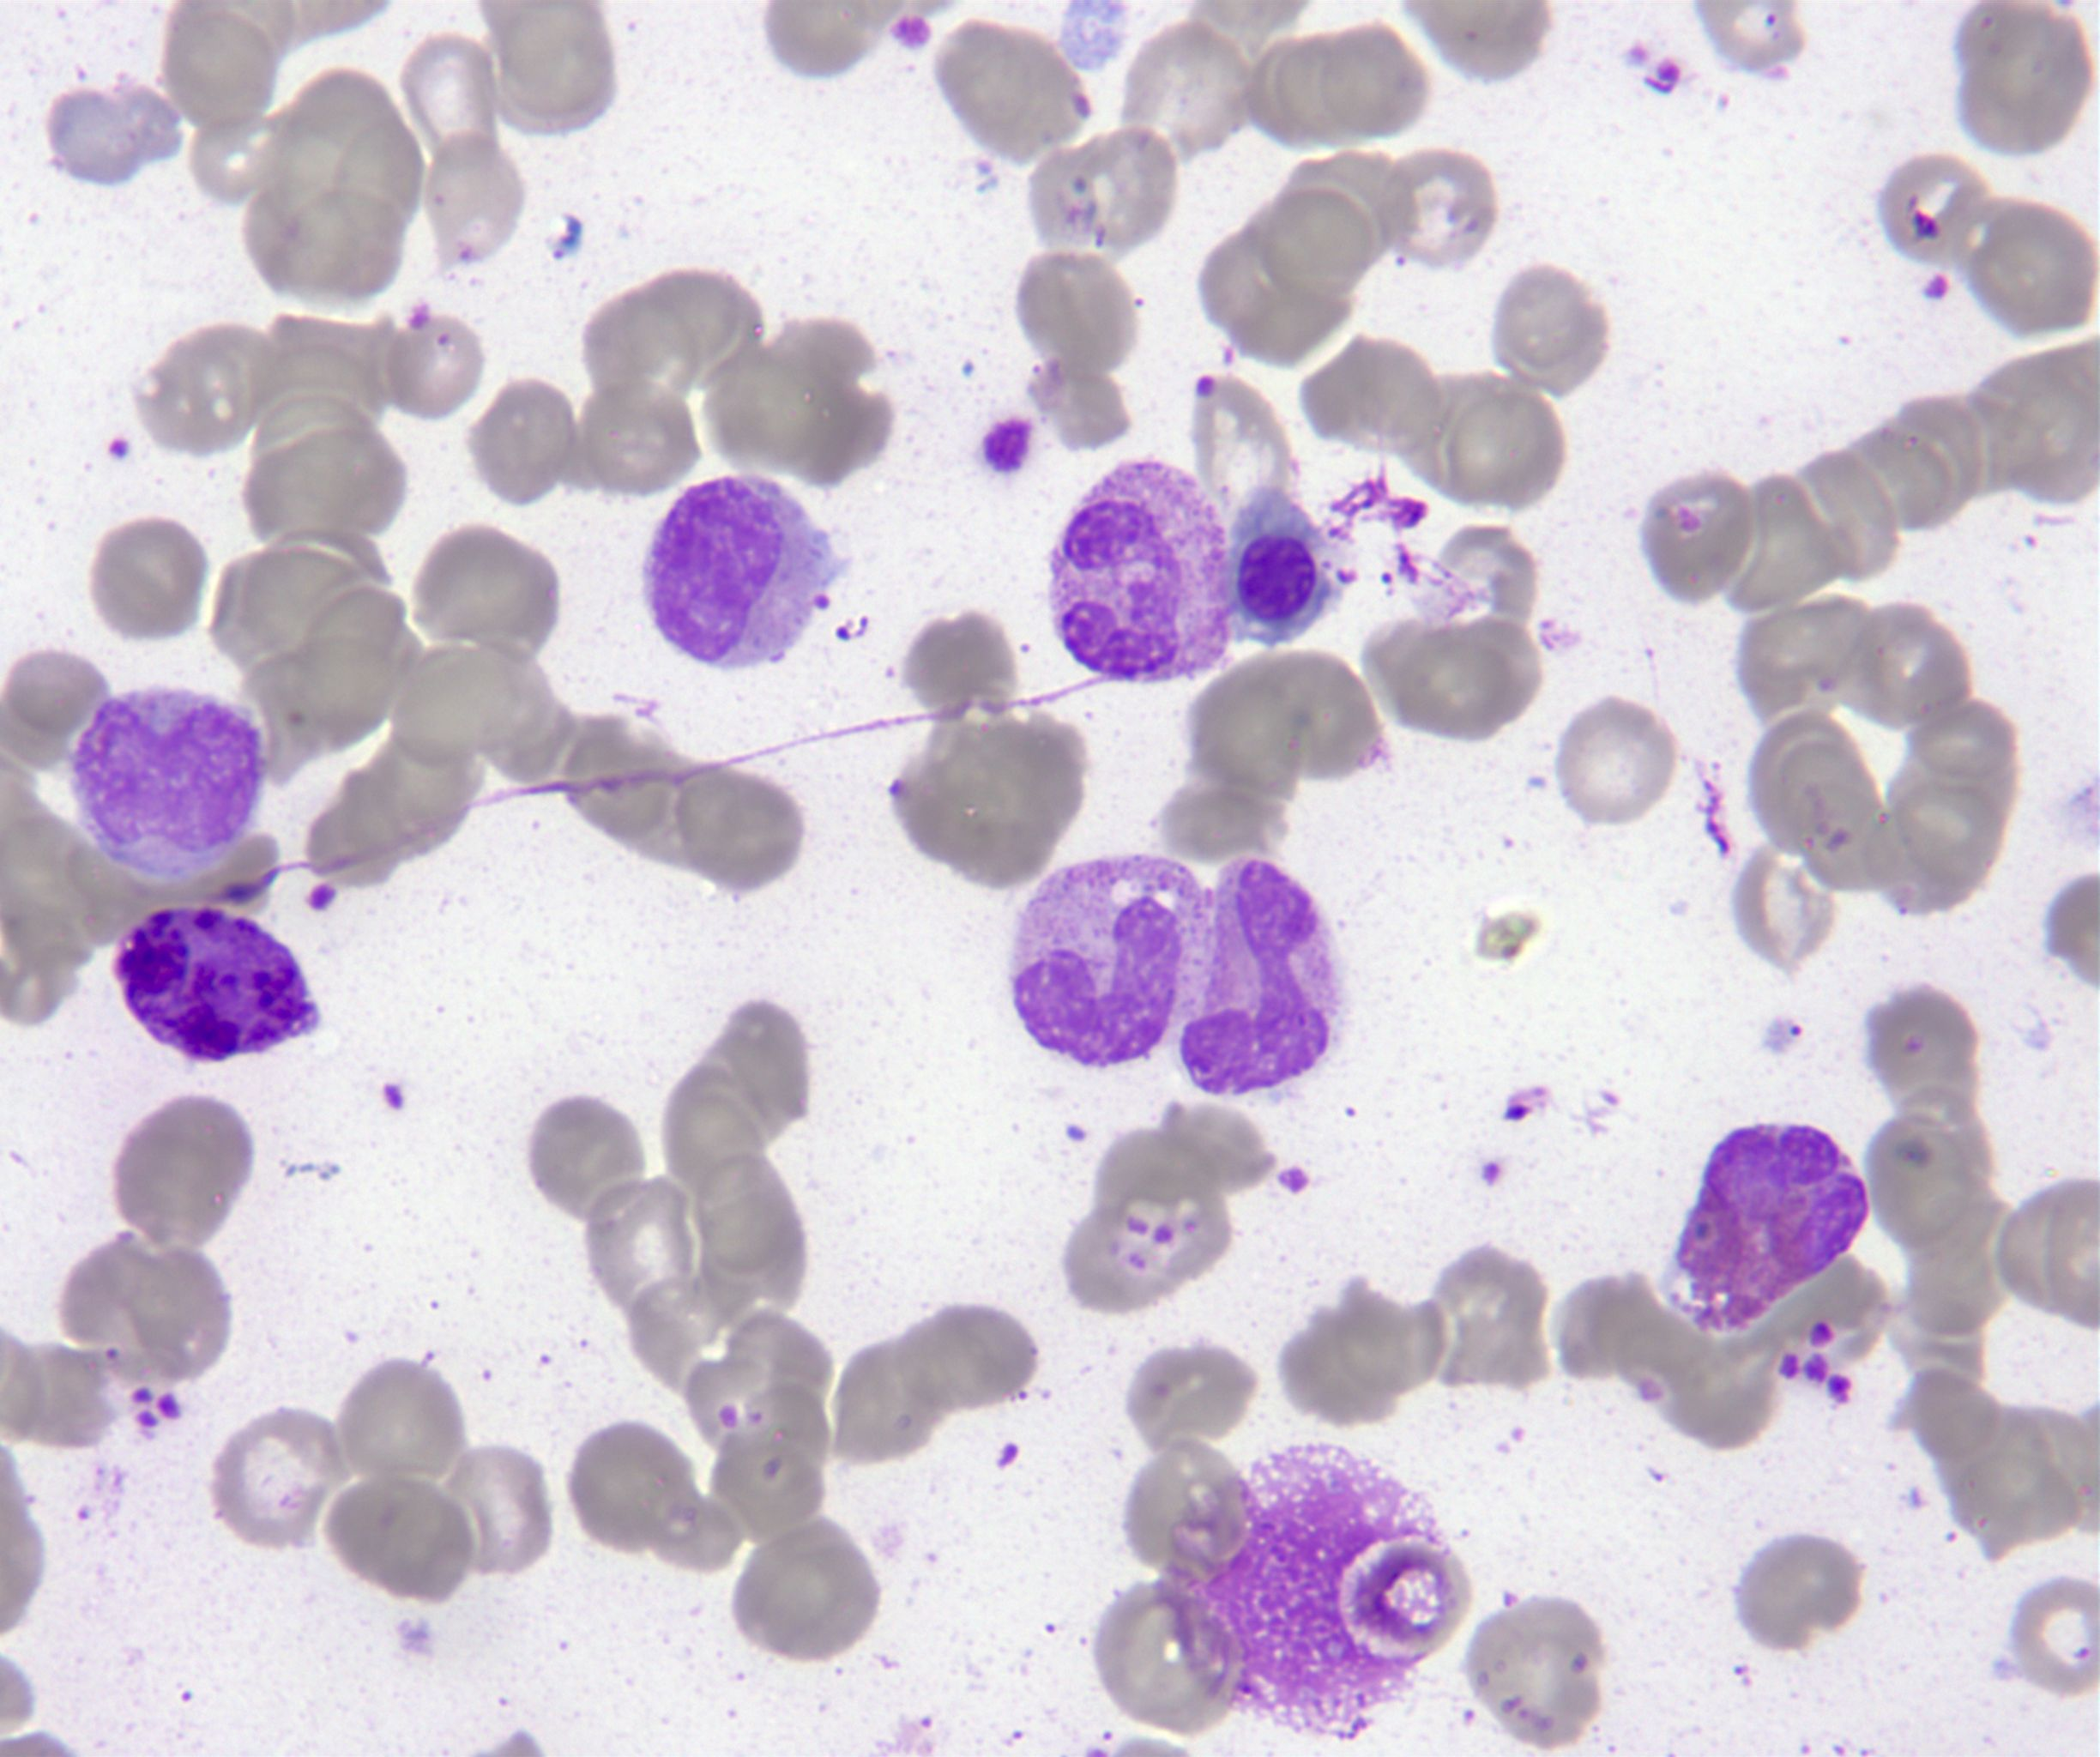24: (1233, 483, 1340, 647)
3: (642, 476, 839, 668)
4: (73, 689, 262, 883)
5: (1012, 853, 1210, 1070), (1052, 457, 1235, 682), (1183, 858, 1343, 1099)
B4: (115, 911, 319, 1063)
E4: (1680, 1125, 1870, 1335)
x: (1153, 1443, 1455, 1736)
